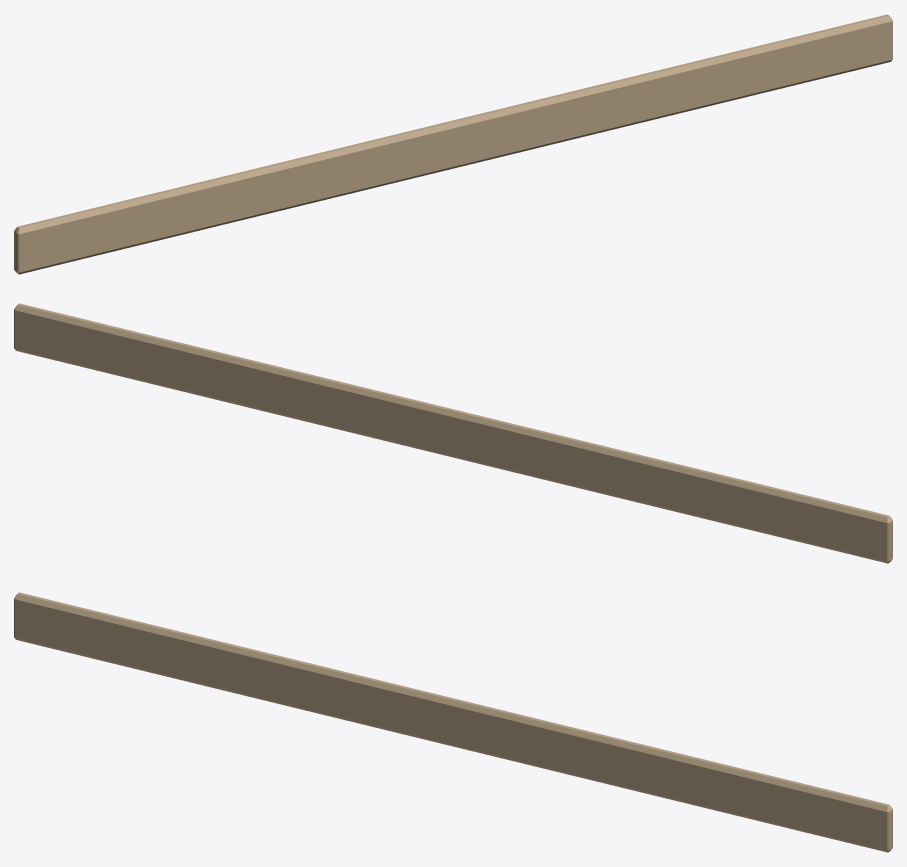
Rendered from fitted-kitchen-and-bathroom-builder-upstand-run-a5419961__17847.glb.
3 renders of one model, top to bottom at view 1: azimuth 30°, elevation 25°; view 2: azimuth 150°, elevation 25°; view 3: azimuth 330°, elevation 25°, orthographic.
Visible parts, largest first — view 1: upstand-run; view 2: upstand-run; view 3: upstand-run.
Part boxes in pixels (<box>): upstand-run: <box>14,14,892,274</box>; upstand-run: <box>14,303,892,563</box>; upstand-run: <box>14,592,892,852</box>.
Bounding box in the file's own units: 2 × 0.1001 × 0.02.
